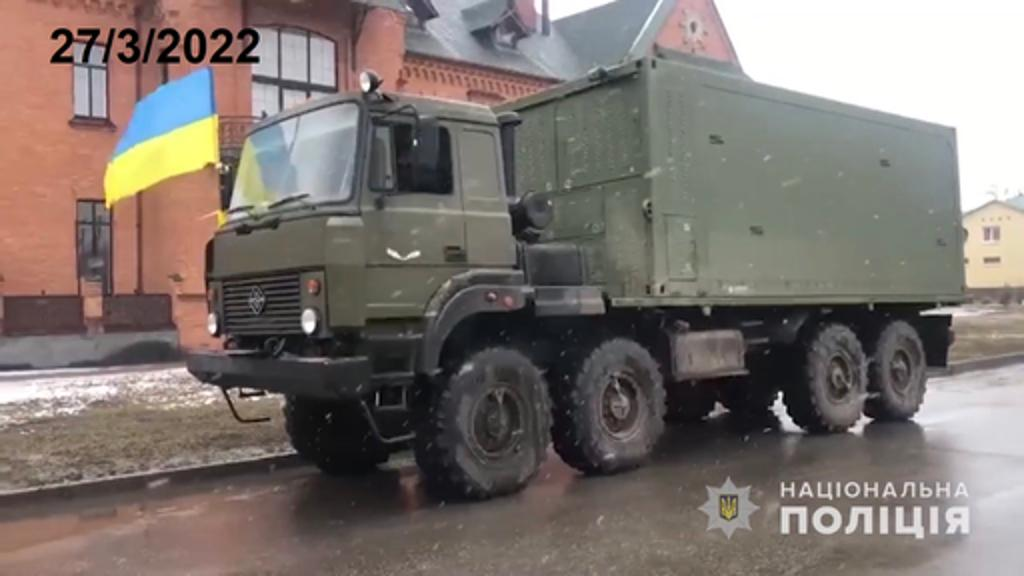TRUCK: (180, 40, 974, 504)
